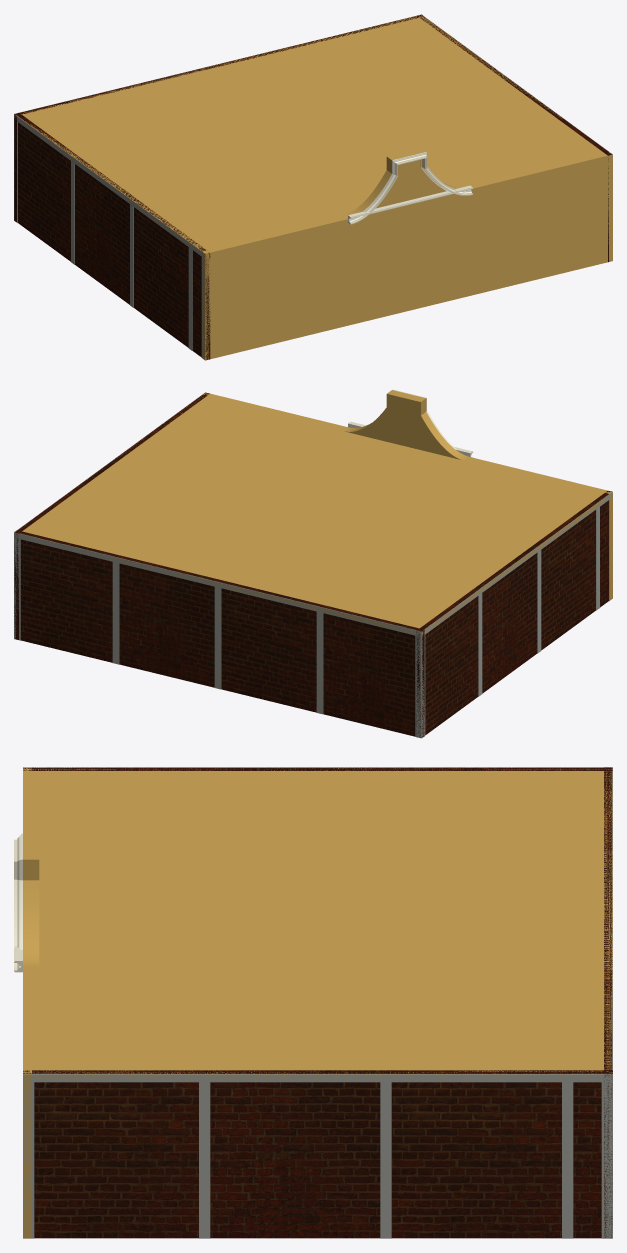
Rendered from building.glb.
3 views of the same model, one above another, from view 1: azimuth 30°, elevation 25°; view 2: azimuth 150°, elevation 25°; view 3: azimuth 270°, elevation 25° (orthographic). The views are drawn at different scales.
Parts seen in each view (by area): view 1: roof/house:0/roof_slab#0001, house:0/edge0/z0/house:0/edge0/z0/wall_0_0, house:0/edge3/z0/house:0/edge3/z0/wall_0_0, crown/coronamiento/crown_body#0001, house:0/edge2/z0/house:0/edge2/z0/wall_0_0, house:0/edge3/z0/house:0/edge3/z0/beam_0_0, house:0/edge1/z0/house:0/edge1/z0/wall_0_0, crown/coronamiento/crown_moulding#0001, crown/coronamiento/crown_base_cornice#0001, house:0/edge3/z0/house:0/edge3/z0/column_4_0; view 2: roof/house:0/roof_slab#0001, house:0/edge2/z0/house:0/edge2/z0/wall_0_0, house:0/edge3/z0/house:0/edge3/z0/wall_0_0, crown/coronamiento/crown_body#0001, house:0/edge2/z0/house:0/edge2/z0/beam_0_0, house:0/edge1/z0/house:0/edge1/z0/wall_0_0, house:0/edge0/z0/house:0/edge0/z0/wall_0_0, house:0/edge3/z0/house:0/edge3/z0/beam_0_0, house:0/edge2/z0/house:0/edge2/z0/column_2_0, house:0/edge2/z0/house:0/edge2/z0/column_3_0, house:0/edge2/z0/house:0/edge2/z0/column_4_0, house:0/edge2/z0/house:0/edge2/z0/column_1_0 (+3 smaller); view 3: roof/house:0/roof_slab#0001, house:0/edge1/z0/house:0/edge1/z0/wall_0_0, house:0/edge1/z0/house:0/edge1/z0/beam_0_0, house:0/edge2/z0/house:0/edge2/z0/wall_0_0, house:0/edge0/z0/house:0/edge0/z0/wall_0_0, house:0/edge3/z0/house:0/edge3/z0/wall_0_0, crown/coronamiento/crown_body#0001, house:0/edge1/z0/house:0/edge1/z0/column_1_0, house:0/edge1/z0/house:0/edge1/z0/column_2_0, house:0/edge1/z0/house:0/edge1/z0/column_3_0, house:0/edge1/z0/house:0/edge1/z0/column_4_0, house:0/edge1/z0/house:0/edge1/z0/column_0_0 (+1 smaller).
Part boxes in pixels (box(x1,y1,x2,y2)): roof/house:0/roof_slab#0001: box(15, 15, 612, 257); house:0/edge0/z0/house:0/edge0/z0/wall_0_0: box(202, 152, 612, 360); house:0/edge3/z0/house:0/edge3/z0/wall_0_0: box(16, 113, 210, 359); crown/coronamiento/crown_body#0001: box(343, 148, 465, 218); house:0/edge2/z0/house:0/edge2/z0/wall_0_0: box(14, 14, 422, 222); house:0/edge3/z0/house:0/edge3/z0/beam_0_0: box(14, 114, 205, 258); house:0/edge1/z0/house:0/edge1/z0/wall_0_0: box(417, 15, 612, 262); crown/coronamiento/crown_moulding#0001: box(348, 152, 473, 224); crown/coronamiento/crown_base_cornice#0001: box(348, 185, 473, 219); house:0/edge3/z0/house:0/edge3/z0/column_4_0: box(188, 247, 192, 350); roof/house:0/roof_slab#0001: box(14, 394, 612, 635); house:0/edge2/z0/house:0/edge2/z0/wall_0_0: box(15, 530, 424, 737); house:0/edge3/z0/house:0/edge3/z0/wall_0_0: box(416, 490, 612, 735); crown/coronamiento/crown_body#0001: box(343, 390, 468, 460); house:0/edge2/z0/house:0/edge2/z0/beam_0_0: box(14, 532, 421, 636); house:0/edge1/z0/house:0/edge1/z0/wall_0_0: box(14, 392, 209, 639); house:0/edge0/z0/house:0/edge0/z0/wall_0_0: box(202, 392, 612, 600); house:0/edge3/z0/house:0/edge3/z0/beam_0_0: box(421, 492, 612, 636); house:0/edge2/z0/house:0/edge2/z0/column_2_0: box(112, 562, 119, 664); house:0/edge2/z0/house:0/edge2/z0/column_3_0: box(214, 587, 221, 689); house:0/edge2/z0/house:0/edge2/z0/column_4_0: box(316, 611, 323, 714); house:0/edge2/z0/house:0/edge2/z0/column_1_0: box(415, 635, 421, 738); roof/house:0/roof_slab#0001: box(23, 767, 612, 1079); house:0/edge1/z0/house:0/edge1/z0/wall_0_0: box(23, 1070, 612, 1238); house:0/edge1/z0/house:0/edge1/z0/beam_0_0: box(23, 1074, 612, 1082); house:0/edge2/z0/house:0/edge2/z0/wall_0_0: box(604, 767, 612, 1237); house:0/edge0/z0/house:0/edge0/z0/wall_0_0: box(23, 767, 31, 1238); house:0/edge3/z0/house:0/edge3/z0/wall_0_0: box(23, 767, 612, 770); crown/coronamiento/crown_body#0001: box(25, 833, 39, 966); house:0/edge1/z0/house:0/edge1/z0/column_1_0: box(601, 1082, 612, 1238); house:0/edge1/z0/house:0/edge1/z0/column_2_0: box(199, 1082, 210, 1238); house:0/edge1/z0/house:0/edge1/z0/column_3_0: box(380, 1082, 391, 1238); house:0/edge1/z0/house:0/edge1/z0/column_4_0: box(562, 1082, 573, 1238); house:0/edge1/z0/house:0/edge1/z0/column_0_0: box(23, 1082, 34, 1238).
Bounding box in the file's own units: 16 × 5.8 × 13.2.
4 materials, 1 textured.
